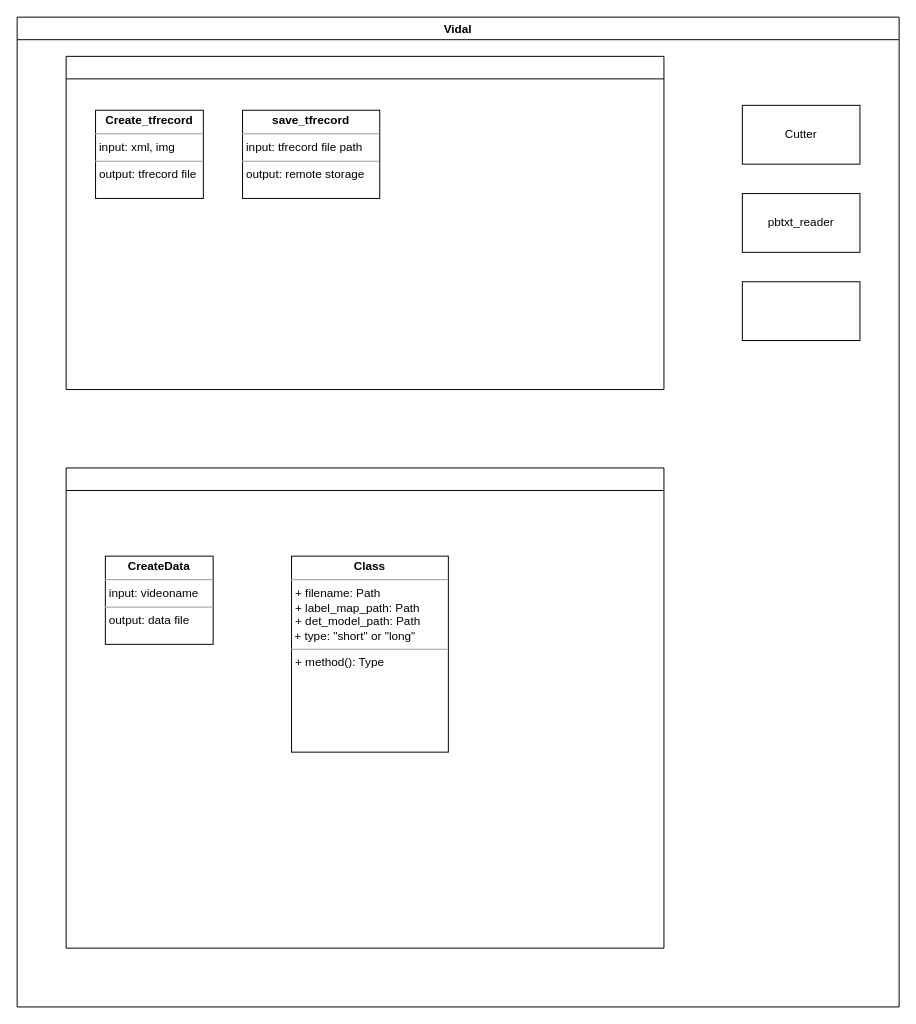
The diagram is 916 pixels wide and 1024 high, and some of its shapes have lost their labels. Each missing label, with the box of its shape:
Action Recognition Training Data Pipeline: (65, 467, 664, 948)
Object DetectionTraining Data Pipeline: (65, 55, 664, 390)
